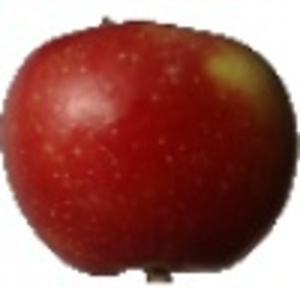maçã braeburn: (1, 19, 300, 277)
